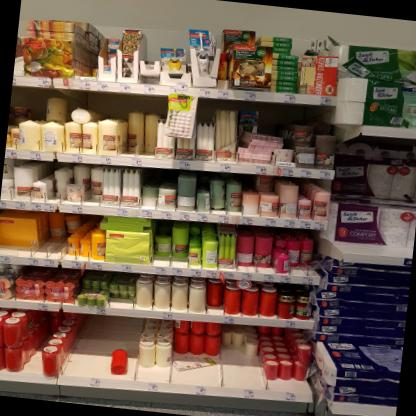empty_space: (59, 311, 114, 379)
